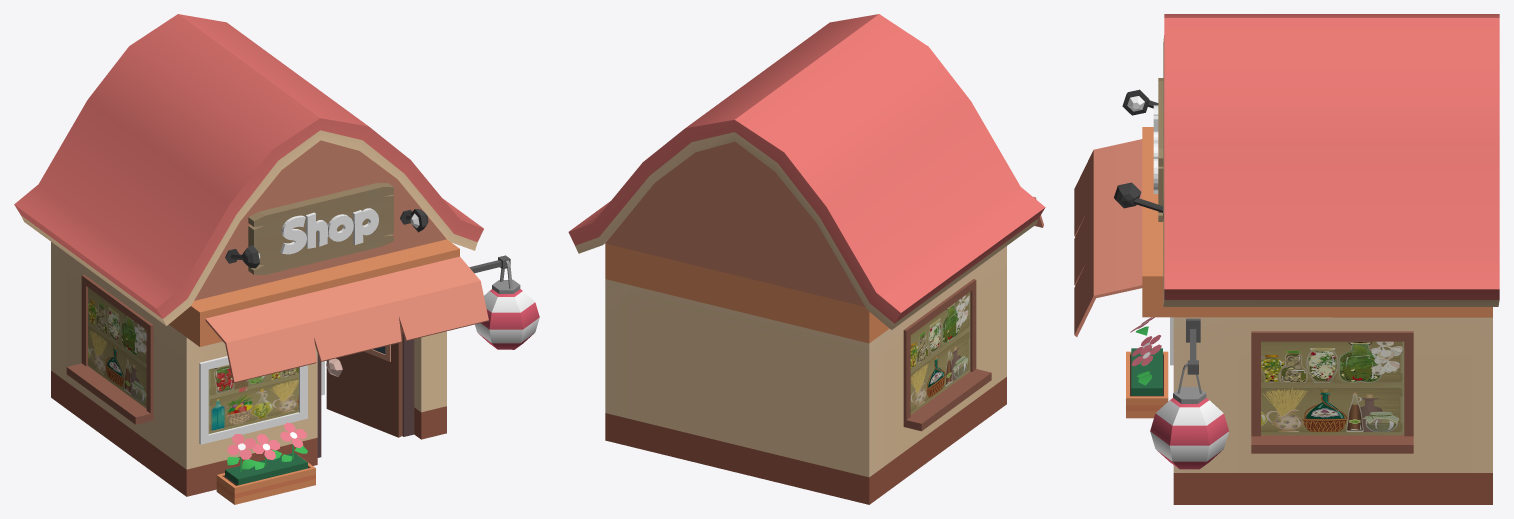
The model's file is souvenir.FBX.
3 renders of one model, left to right at view 1: azimuth 30°, elevation 25°; view 2: azimuth 150°, elevation 25°; view 3: azimuth 270°, elevation 25°, orthographic. The views are drawn at different scales.
Parts seen in each view (by area): view 1: souvenir_Shop; view 2: souvenir_Shop; view 3: souvenir_Shop.
Part boxes in pixels (bbox=[...]): souvenir_Shop: bbox=[14, 14, 539, 504]; souvenir_Shop: bbox=[568, 14, 1045, 504]; souvenir_Shop: bbox=[1074, 14, 1499, 504].
Bounding box in the file's own units: 198 × 172 × 161.
